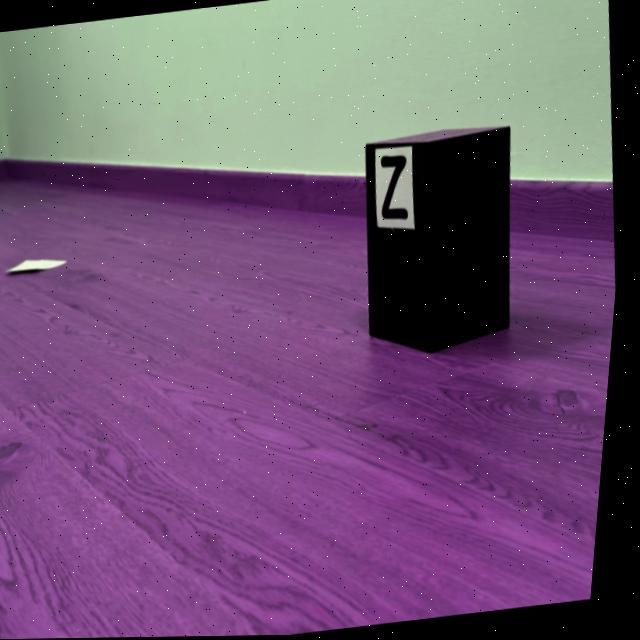Z: (384, 156, 411, 221)
